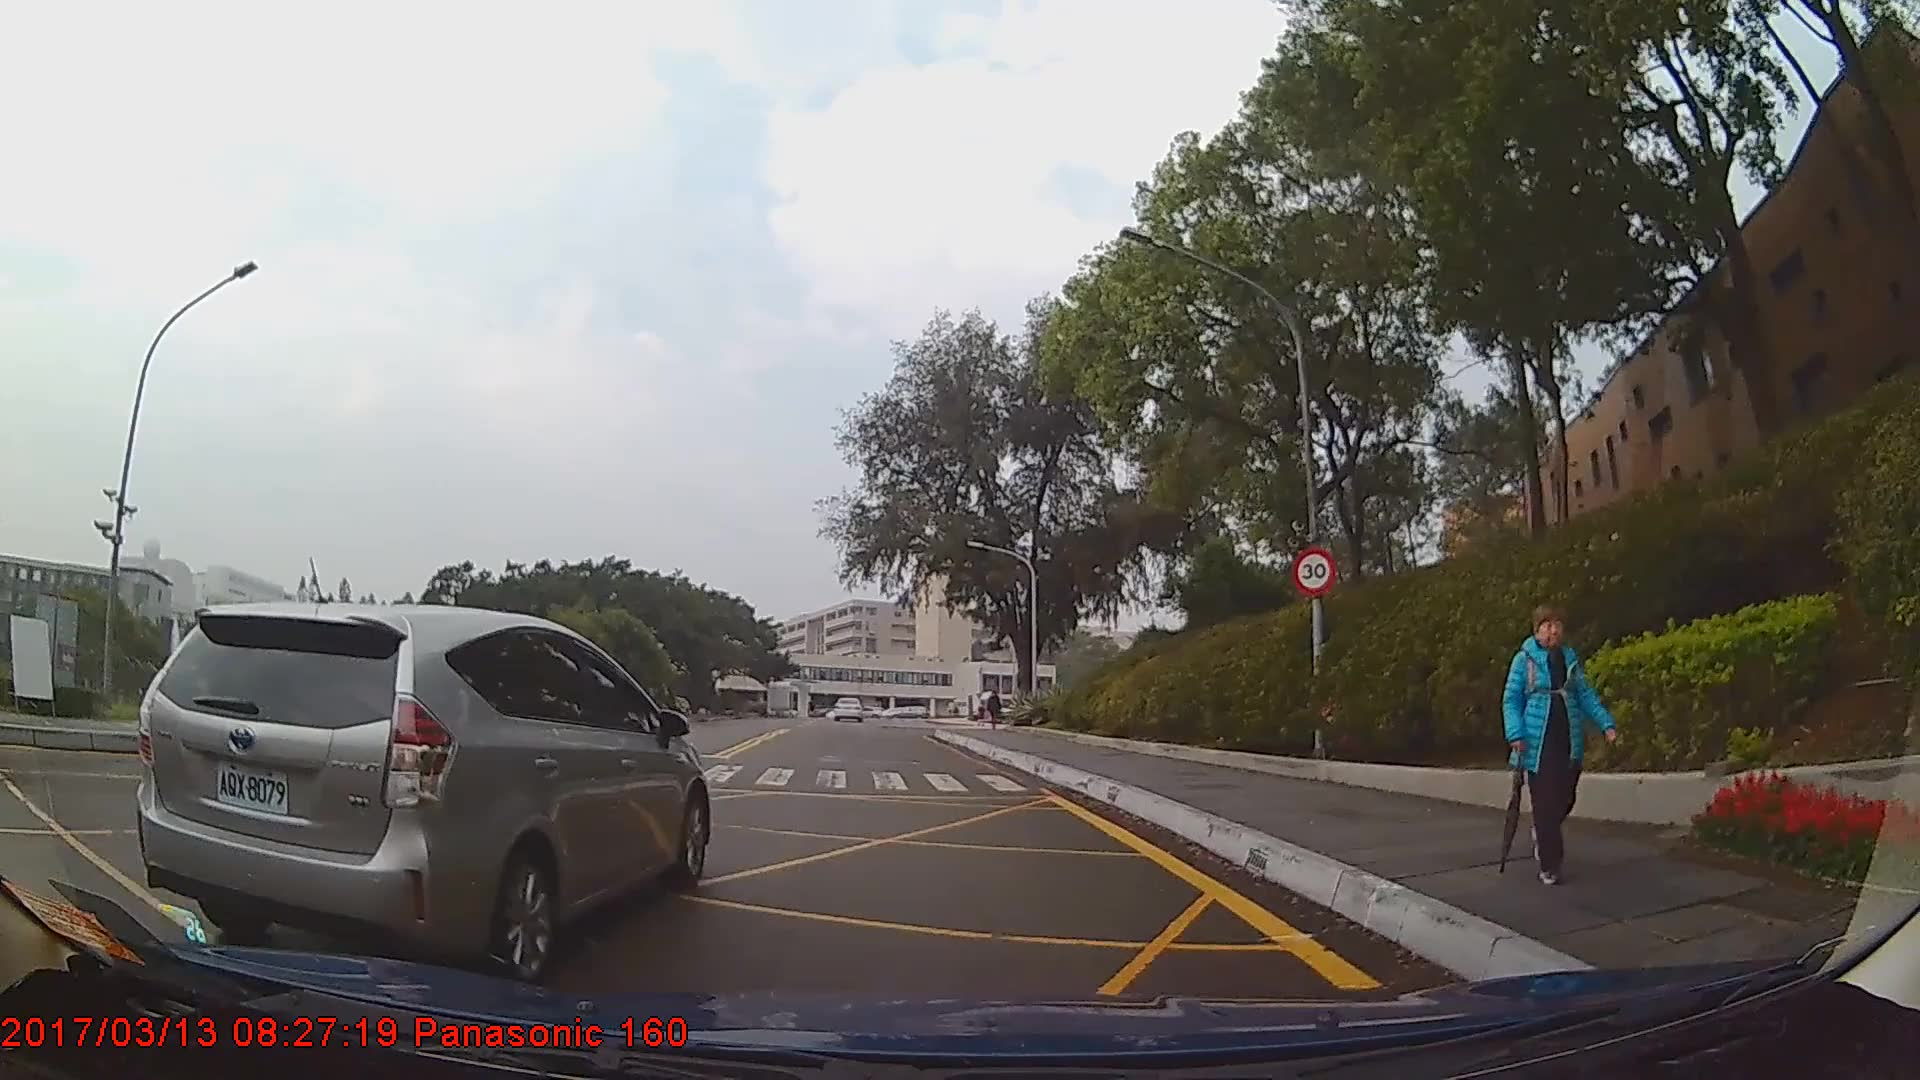pedestrian: (1500, 597, 1617, 889), (987, 691, 1007, 734)
vehicle: (138, 604, 711, 988), (831, 697, 863, 724)
